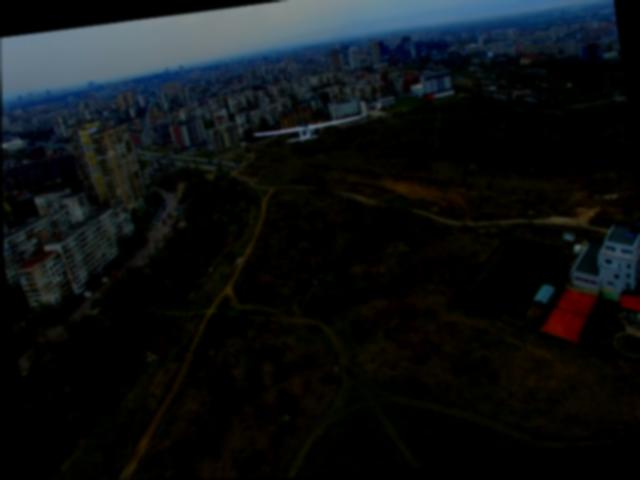plane: (249, 116, 360, 148)
